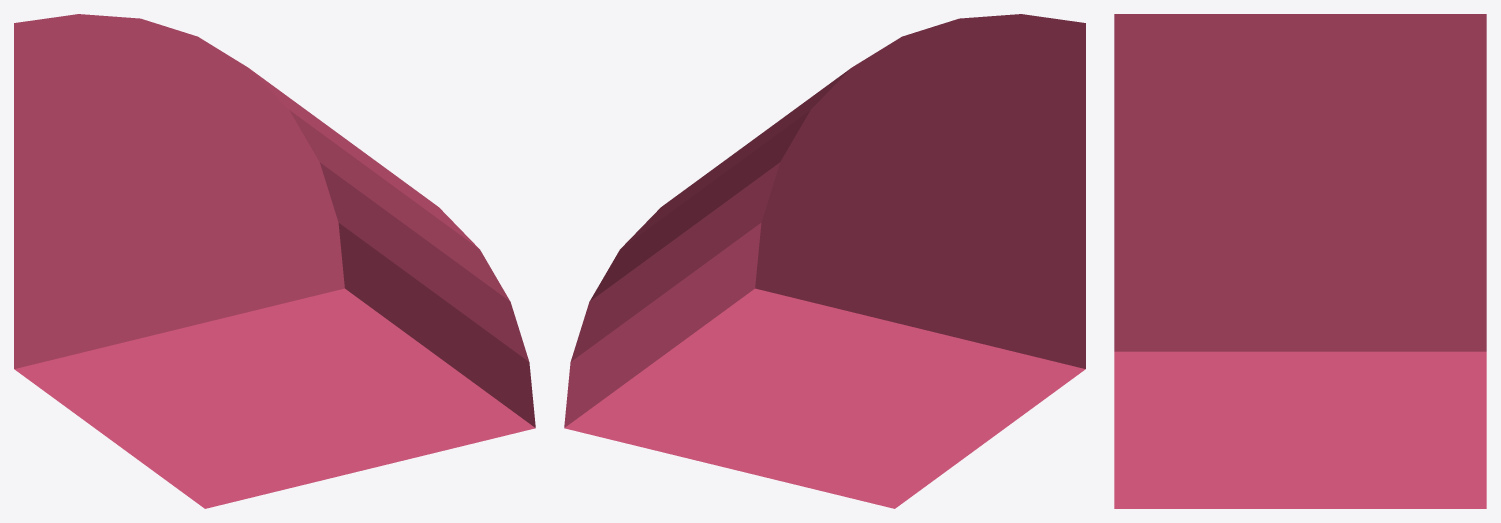
Rendered from r4c3_border_pink.gltf.
3 views of the same model, side by side, from view 1: azimuth 30°, elevation 25°; view 2: azimuth 150°, elevation 25°; view 3: azimuth 270°, elevation 25° (orthographic). The views are drawn at different scales.
Parts seen in each view (by area): view 1: r4c3_border_pink; view 2: r4c3_border_pink; view 3: r4c3_border_pink.
Part boxes in pixels (left/top/right/bottom): r4c3_border_pink: left=14, top=14, right=535, bottom=508; r4c3_border_pink: left=564, top=14, right=1085, bottom=508; r4c3_border_pink: left=1114, top=14, right=1486, bottom=508.
Bounding box in the file's own units: 2.1 × 2.1 × 2.1.
1 material, 1 textured.
